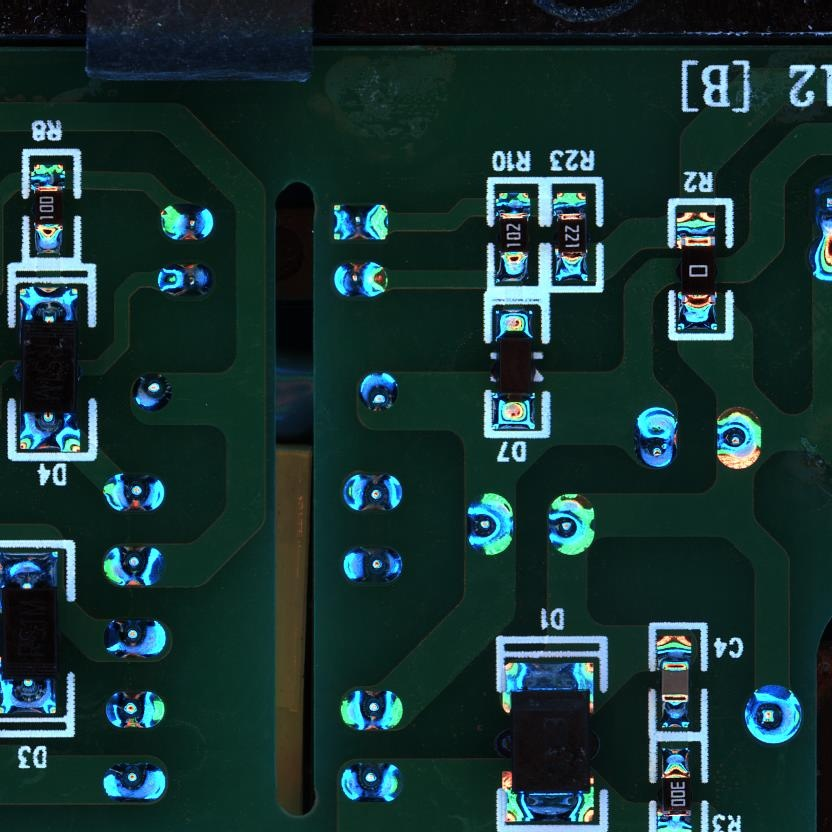spot: (744, 683, 803, 745), (464, 492, 515, 558), (546, 492, 597, 557), (633, 405, 680, 471), (716, 406, 763, 472), (337, 688, 405, 733), (100, 545, 168, 589), (339, 761, 407, 804), (101, 471, 167, 515), (100, 761, 167, 804), (103, 617, 169, 660), (103, 688, 167, 732), (341, 544, 405, 586), (341, 473, 403, 514), (331, 201, 389, 242), (159, 203, 216, 243), (332, 259, 389, 299), (158, 262, 218, 299), (356, 370, 401, 416), (130, 371, 175, 412)
